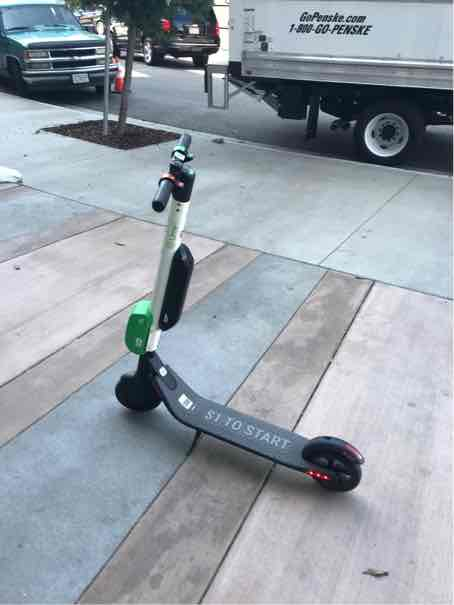scooter: (110, 128, 364, 508)
